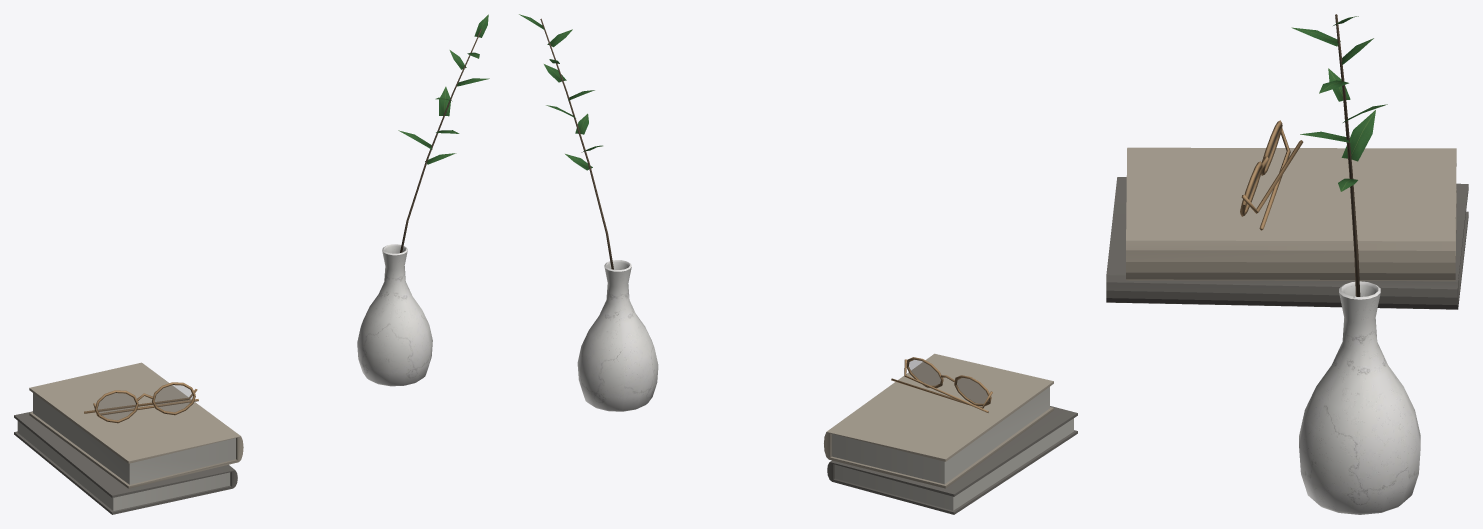
File: decor_d_nightstand_a.gltf
The picture shows the model from 3 angles, left to right: view 1: azimuth 30°, elevation 25°; view 2: azimuth 150°, elevation 25°; view 3: azimuth 270°, elevation 25°; orthographic projection. The views are drawn at different scales.
Parts seen in each view (by area): view 1: DecorD_Nightstand_A_Book02_Oat_NoCollide, DecorD_Nightstand_A_Vase01_Marble_NoCollide, DecorD_Nightstand_A_Book02_Paper_NoCollide, DecorD_Nightstand_A_Book01_StoneFabric_NoCollide, DecorD_Nightstand_A_Book01_Paper_NoCollide, DecorD_Nightstand_A_Spectacles01_Glass_NoCollide, DecorD_Nightstand_A_Spectacles01_Bronze_NoCollide, DecorD_Nightstand_A_Leaf_NoCollide, DecorD_Nightstand_A_Bark_NoCollide; view 2: DecorD_Nightstand_A_Book02_Oat_NoCollide, DecorD_Nightstand_A_Vase01_Marble_NoCollide, DecorD_Nightstand_A_Book02_Paper_NoCollide, DecorD_Nightstand_A_Book01_StoneFabric_NoCollide, DecorD_Nightstand_A_Book01_Paper_NoCollide, DecorD_Nightstand_A_Spectacles01_Bronze_NoCollide, DecorD_Nightstand_A_Spectacles01_Glass_NoCollide, DecorD_Nightstand_A_Leaf_NoCollide, DecorD_Nightstand_A_Bark_NoCollide; view 3: DecorD_Nightstand_A_Book02_Oat_NoCollide, DecorD_Nightstand_A_Vase01_Marble_NoCollide, DecorD_Nightstand_A_Book01_StoneFabric_NoCollide, DecorD_Nightstand_A_Leaf_NoCollide, DecorD_Nightstand_A_Spectacles01_Bronze_NoCollide, DecorD_Nightstand_A_Bark_NoCollide.
Part boxes in pixels (x1,y1,x2,y2): DecorD_Nightstand_A_Book02_Oat_NoCollide: (29,362,243,488); DecorD_Nightstand_A_Vase01_Marble_NoCollide: (357,244,432,386); DecorD_Nightstand_A_Book02_Paper_NoCollide: (33,393,235,484); DecorD_Nightstand_A_Book01_StoneFabric_NoCollide: (14,411,237,514); DecorD_Nightstand_A_Book01_Paper_NoCollide: (17,421,230,510); DecorD_Nightstand_A_Spectacles01_Glass_NoCollide: (97,385,192,419); DecorD_Nightstand_A_Spectacles01_Bronze_NoCollide: (84,382,198,423); DecorD_Nightstand_A_Leaf_NoCollide: (398,14,489,164); DecorD_Nightstand_A_Bark_NoCollide: (400,29,481,252); DecorD_Nightstand_A_Book02_Oat_NoCollide: (824,353,1053,488); DecorD_Nightstand_A_Vase01_Marble_NoCollide: (577,260,658,411); DecorD_Nightstand_A_Book02_Paper_NoCollide: (831,387,1049,484); DecorD_Nightstand_A_Book01_StoneFabric_NoCollide: (827,406,1077,514); DecorD_Nightstand_A_Book01_Paper_NoCollide: (835,418,1073,510); DecorD_Nightstand_A_Spectacles01_Bronze_NoCollide: (891,357,992,412); DecorD_Nightstand_A_Spectacles01_Glass_NoCollide: (909,360,987,403); DecorD_Nightstand_A_Leaf_NoCollide: (519,14,602,170); DecorD_Nightstand_A_Bark_NoCollide: (540,18,613,269); DecorD_Nightstand_A_Book02_Oat_NoCollide: (1126,147,1456,281); DecorD_Nightstand_A_Vase01_Marble_NoCollide: (1299,281,1420,514); DecorD_Nightstand_A_Book01_StoneFabric_NoCollide: (1106,177,1468,309); DecorD_Nightstand_A_Leaf_NoCollide: (1291,16,1387,191); DecorD_Nightstand_A_Spectacles01_Bronze_NoCollide: (1240,120,1303,230); DecorD_Nightstand_A_Bark_NoCollide: (1335,14,1360,296).
Bounding box in the file's own units: 0.5702 × 0.4077 × 0.2421.
8 materials, 2 textured.
